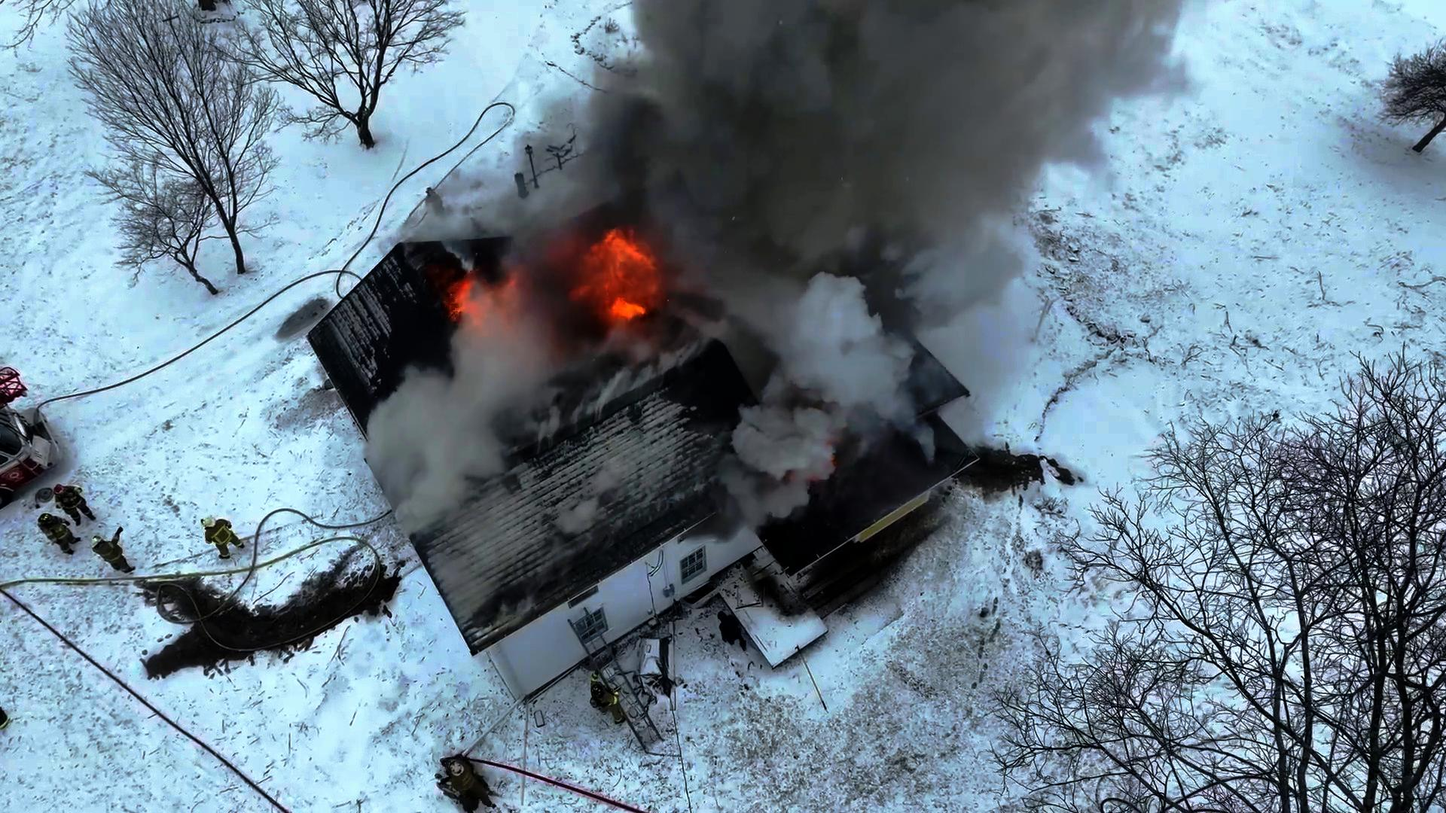fire: (443, 221, 668, 332)
smoke: (727, 0, 995, 249)
